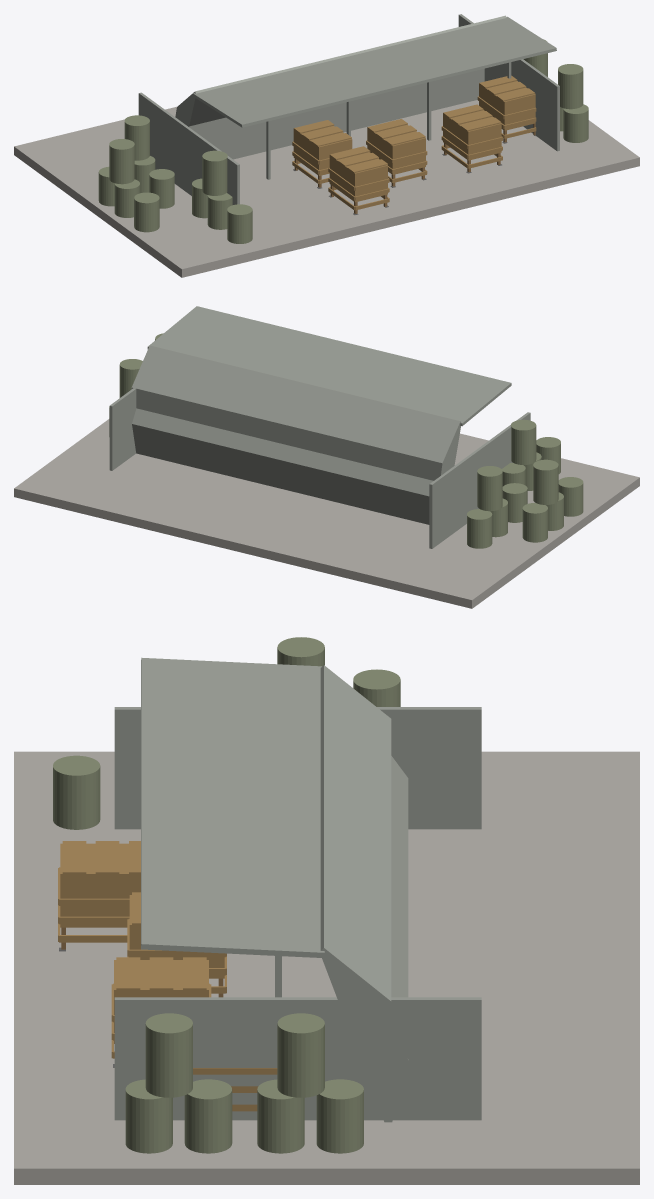
The model's file is supply_depot.glb.
3 renders of one model, top to bottom at view 1: azimuth 30°, elevation 25°; view 2: azimuth 150°, elevation 25°; view 3: azimuth 270°, elevation 25°, orthographic. The views are drawn at different scales.
Parts seen in each view (by area): view 1: Platform, Roof, BackWall, LeftWall, RightWall, Crate, Crate.002, Crate.008, Crate.004, Crate.006, FuelDrum_0.004, FuelDrum_0.002 (+11 smaller); view 2: Platform, BackWall, Roof, LeftWall, RightWall, FuelDrum_0.002, FuelDrum_0.003, FuelDrum_0.004, FuelDrum_2.005, FuelDrum_2.002, FuelDrum_2.003, FuelDrum_2.004 (+5 smaller); view 3: Platform, Roof, BackWall, RightWall, LeftWall, FuelDrum_0, FuelDrum_0.001, Crate.002, FuelDrum_2.007, FuelDrum_2, FuelDrum_2.001, FuelDrum_1 (+9 smaller).
Part boxes in pixels (box(x1,y1,x2,y2)): Platform: box(14, 100, 639, 277); Roof: box(193, 16, 556, 127); BackWall: box(175, 15, 506, 159); LeftWall: box(138, 92, 239, 204); RightWall: box(458, 14, 559, 151); Crate: box(292, 120, 352, 184); Crate.002: box(329, 152, 387, 202); Crate.008: box(443, 110, 501, 160); Crate.004: box(367, 124, 425, 174); Crate.006: box(479, 81, 535, 130); FuelDrum_0.004: box(202, 150, 227, 195); FuelDrum_0.002: box(109, 139, 134, 184); Platform: box(14, 419, 639, 608); BackWall: box(131, 345, 460, 524); Roof: box(147, 306, 511, 426); LeftWall: box(429, 412, 530, 548); RightWall: box(109, 388, 136, 470); FuelDrum_0.002: box(533, 459, 558, 504); FuelDrum_0.003: box(477, 466, 502, 511); FuelDrum_0.004: box(511, 419, 536, 464); FuelDrum_2.005: box(467, 509, 492, 548); FuelDrum_2.002: box(522, 502, 547, 542); FuelDrum_2.003: box(558, 477, 583, 516); FuelDrum_2.004: box(502, 483, 527, 522); Platform: box(14, 751, 639, 1184); Roof: box(141, 657, 324, 957); BackWall: box(320, 665, 408, 1122); RightWall: box(114, 997, 481, 1120); LeftWall: box(114, 707, 481, 829); FuelDrum_0: box(145, 1013, 192, 1097); FuelDrum_0.001: box(277, 1013, 324, 1097); Crate.002: box(60, 843, 140, 927); FuelDrum_2.007: box(53, 755, 100, 829); FuelDrum_2: box(184, 1079, 232, 1153); FuelDrum_2.001: box(316, 1079, 363, 1153); FuelDrum_1: box(125, 1079, 172, 1153).
Size of the model in its own units: 8.32 by 1.96 by 5.28.
